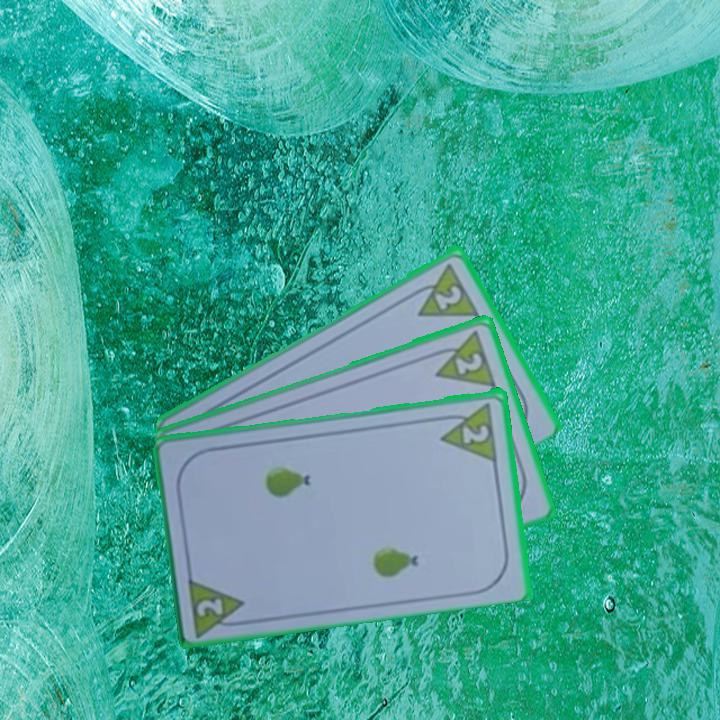2p: (426, 326, 500, 390), (405, 258, 481, 320), (435, 398, 501, 463), (193, 594, 227, 619)
